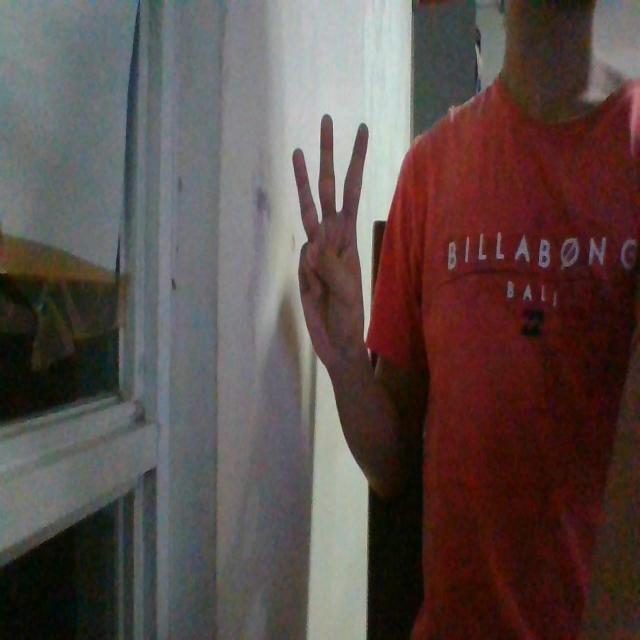W: (292, 112, 368, 367)
